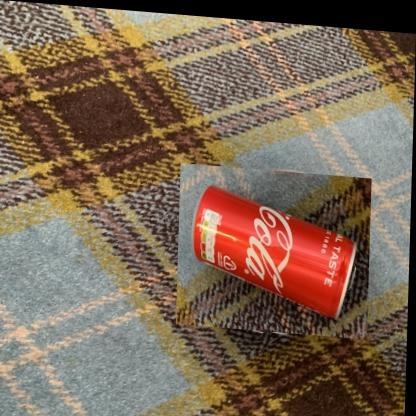trash: (193, 186, 355, 317)
